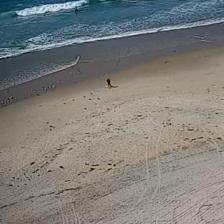surfer: (74, 8, 78, 12)
